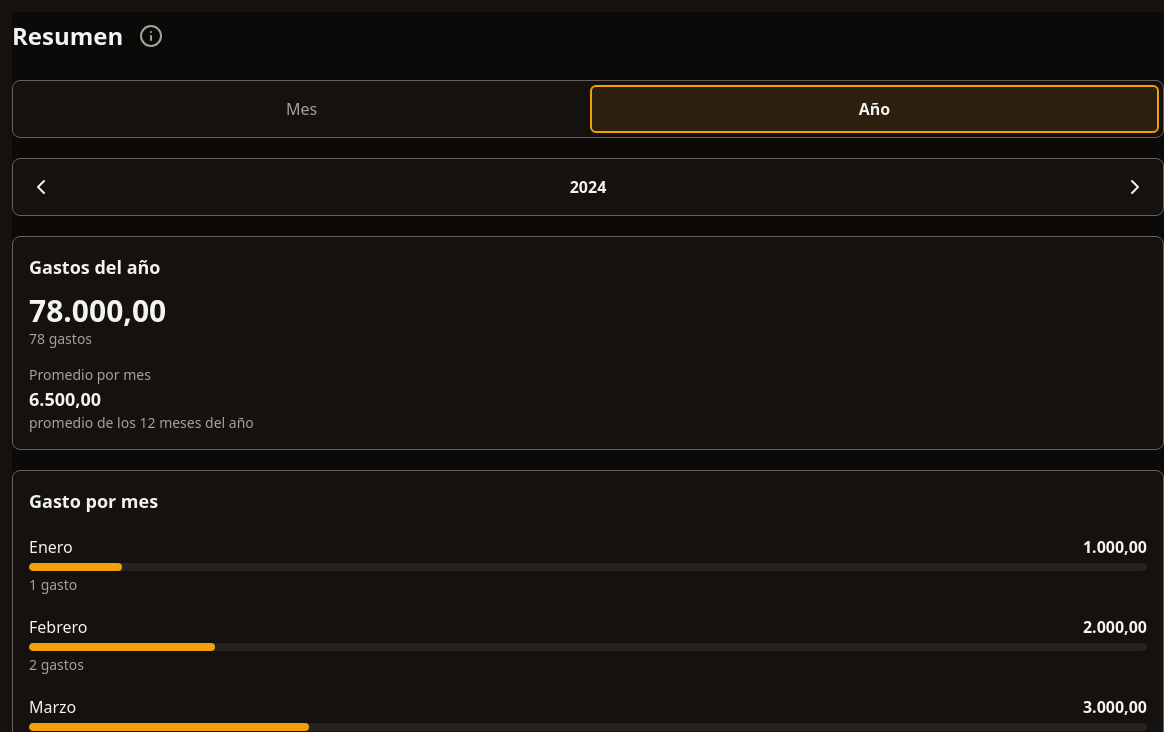
Test: Resumen: selector de vista (Mes | Año) › en la vista Año de un año pasado, "Mes" lleva a diciembre de ese año
Click the link "Mes" at (302, 109), box [286, 98, 317, 120]
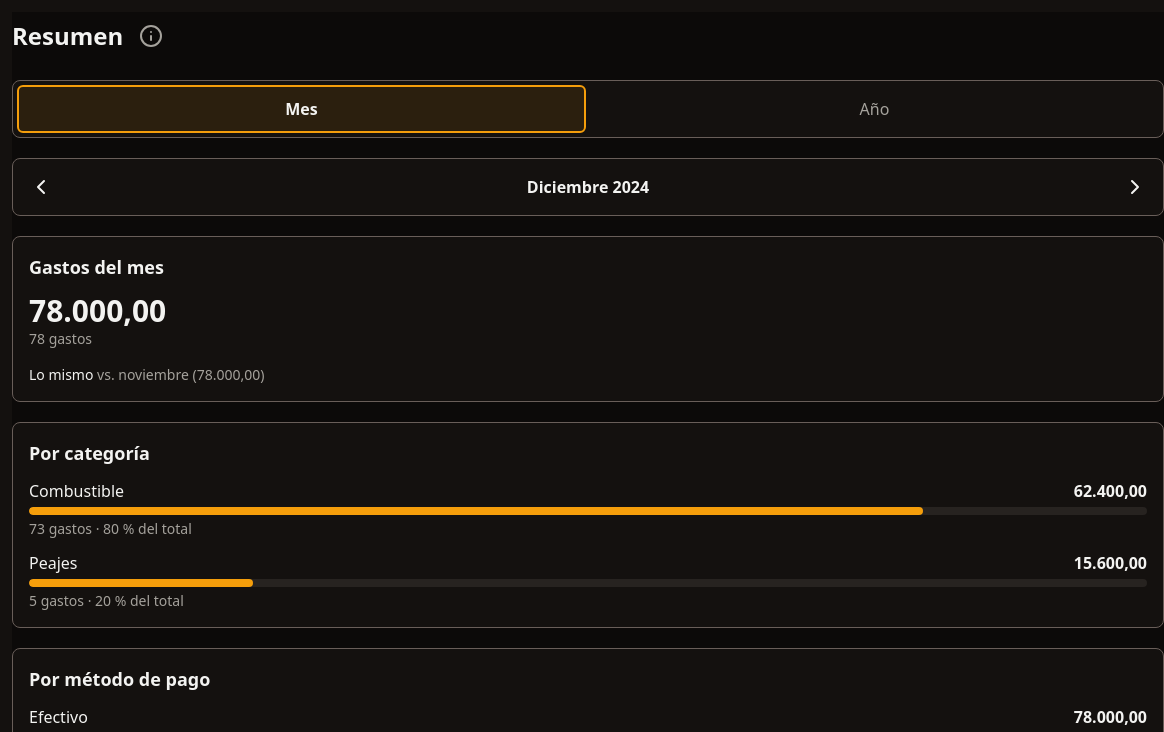
Now the text "diciembre 2024" is shown, box [527, 176, 649, 198]
